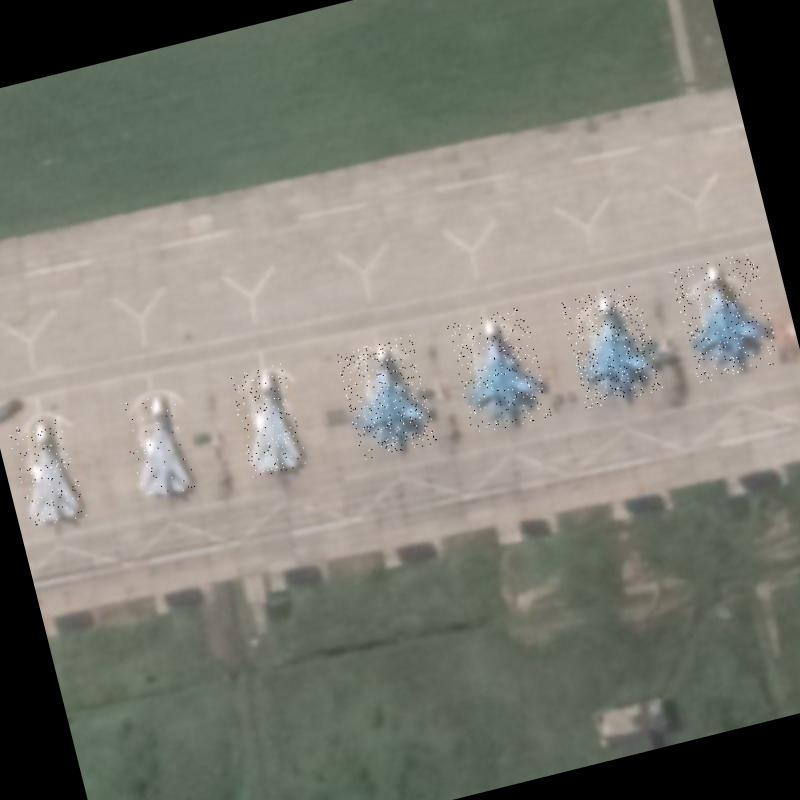A19: (669, 250, 781, 384), (445, 306, 551, 436), (334, 334, 438, 462), (559, 282, 663, 410)
A20: (227, 362, 308, 478), (116, 389, 196, 504), (6, 414, 86, 529)
